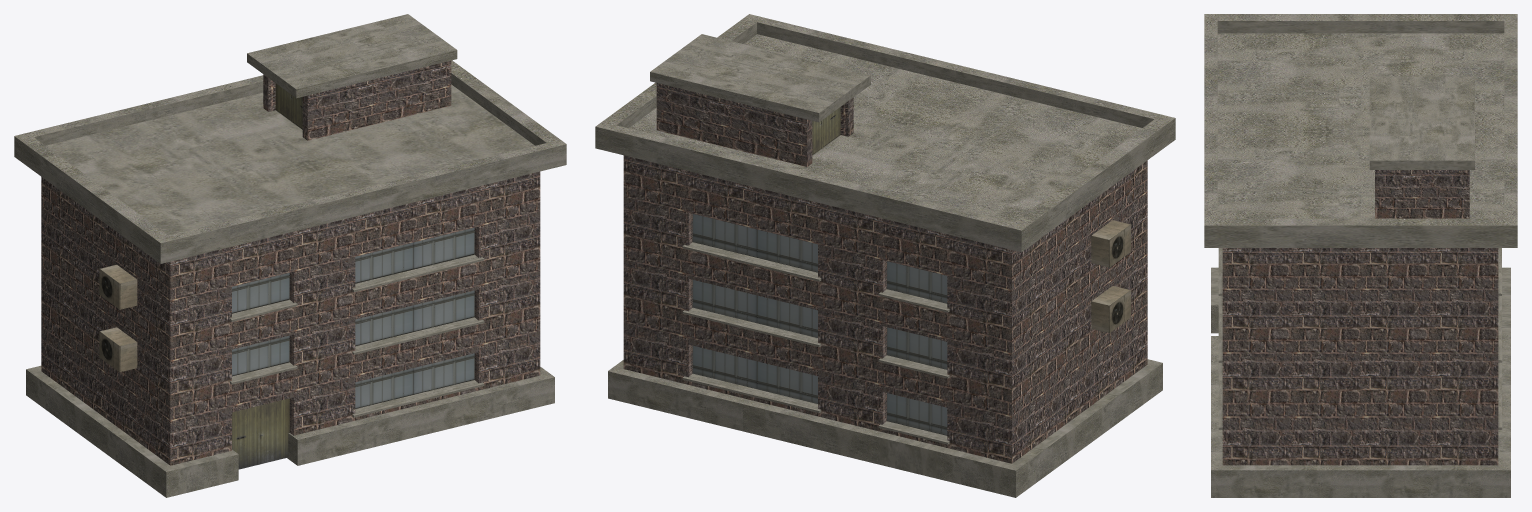
File: Building03A2.fbx
3 renders of one model, left to right at view 1: azimuth 30°, elevation 25°; view 2: azimuth 150°, elevation 25°; view 3: azimuth 270°, elevation 25°, orthographic. The views are drawn at different scales.
Visible parts, largest first — view 1: UB; view 2: UB; view 3: UB.
Boxes of the visible parts, <box> form: UB: <box>14,14,566,497</box>; UB: <box>595,14,1175,497</box>; UB: <box>1204,14,1517,497</box>.
Bounding box in the file's own units: 10.59 × 7.59 × 6.62.
